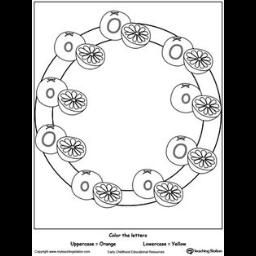o: (104, 14, 122, 36), (167, 42, 185, 62), (39, 130, 57, 148), (171, 140, 187, 160), (77, 178, 91, 194), (62, 40, 76, 54), (180, 92, 194, 106), (44, 86, 58, 100), (142, 177, 154, 193)
